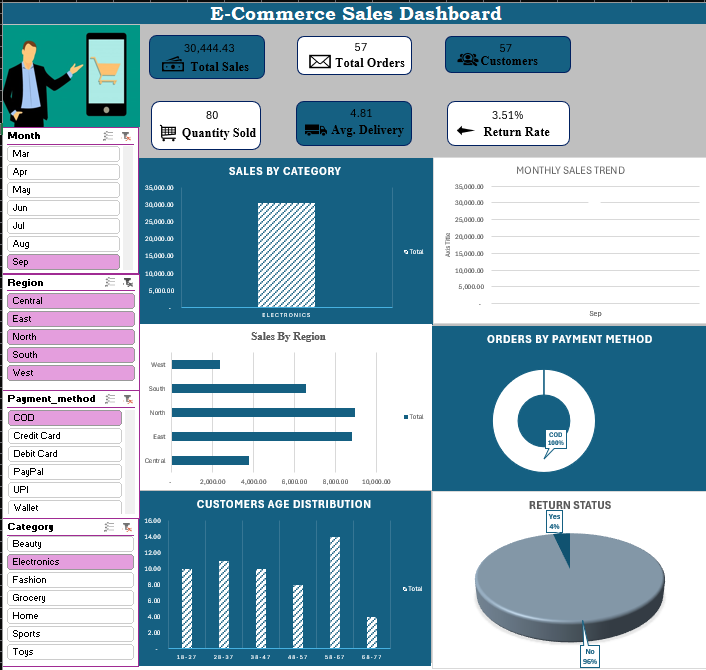

The page's visual inventory and layout, read from the dashboard file:
{"tool":"powerbi","page":{"name":"Page 1","canvas":[1280,720],"ordinal":0},"visuals":[{"type":"textbox","box":[0,0,1279.4,60.5],"z":0},{"type":"cardVisual","fields":{"Data":["CountNonNull(raw csv.Order_id)"]},"box":[277.1,60.6,252.9,125.7],"z":1000},{"type":"cardVisual","fields":{"Data":["Count(raw csv.Customer_id)"]},"box":[530,60.6,245.3,125.7],"z":2000},{"type":"cardVisual","fields":{"Data":["Avg(raw csv.Delivery_time_days)"]},"box":[1029.7,60.6,249.8,125.7],"z":3000},{"type":"cardVisual","fields":{"Data":["Sum(raw csv.Quantity)"]},"box":[775.3,60.6,254.4,125.7],"z":4000},{"type":"cardVisual","fields":{"Data":["Sum(raw csv.Total_amount)"]},"box":[0,60.6,277.1,125.7],"z":5000},{"type":"slicer","fields":{"Values":["raw csv.Order_date.Variation.Date Hierarchy.Year"]},"box":[0,186.2,346.8,118.1],"z":6000},{"type":"slicer","fields":{"Values":["raw csv.Category"]},"box":[346.8,186.2,331.6,118.1],"z":7000},{"type":"slicer","fields":{"Values":["raw csv.Region"]},"box":[678.4,186.2,302.8,118.1],"z":8000},{"type":"slicer","fields":{"Values":["raw csv.Payment_method"]},"box":[981.2,186.2,298.3,118.1],"z":9000},{"type":"clusteredBarChart","title":"Sales by Category","fields":{"Y":["Sum(raw csv.Total_amount)"],"Category":["raw csv.Category"]},"box":[1.5,304.4,457.3,212],"z":10000},{"type":"lineChart","title":"Sales by Month","fields":{"Y":["Sum(raw csv.Total_amount)"],"Category":["raw csv.Order_date.Variation.Date Hierarchy.Month"]},"box":[458.8,304.4,424,215],"z":11000},{"type":"barChart","title":"Sales by Region","fields":{"Category":["raw csv.Region"],"Y":["Sum(raw csv.Total_amount)"]},"box":[879.8,304.4,399.8,212],"z":12000},{"type":"donutChart","title":"Orders by Payment Method","fields":{"Category":["raw csv.Payment_method"],"Y":["CountNonNull(raw csv.Order_id)"]},"box":[2,516.1,456.8,203.7],"z":13000},{"type":"clusteredColumnChart","title":"Customer Age Distribution","fields":{"Category":["raw csv.Age_Group"],"Y":["CountNonNull(raw csv.Customer_id)"]},"box":[456.9,516.7,423.6,200],"z":14000},{"type":"pieChart","title":"Return Status Distribution","fields":{"Category":["raw csv.Returned"],"Y":["CountNonNull(raw csv.Order_id)"]},"box":[881.9,513.9,398.6,202.8],"z":15000}]}

Visuals, with their boxes on the page's 1280x720 design canvas (x1, y1, x2, y2). These are canvas units, not pixel positions in the 706x670 screenshot, which may show the page scaled, cropped or inside an application window:
textbox: rect(0, 0, 1279, 60)
cardVisual - CountNonNull(raw csv.Order_id): rect(277, 61, 530, 186)
cardVisual - Count(raw csv.Customer_id): rect(530, 61, 775, 186)
cardVisual - Avg(raw csv.Delivery_time_days): rect(1030, 61, 1280, 186)
cardVisual - Sum(raw csv.Quantity): rect(775, 61, 1030, 186)
cardVisual - Sum(raw csv.Total_amount): rect(0, 61, 277, 186)
slicer - raw csv.Order_date.Variation.Date Hierarchy.Year: rect(0, 186, 347, 304)
slicer - raw csv.Category: rect(347, 186, 678, 304)
slicer - raw csv.Region: rect(678, 186, 981, 304)
slicer - raw csv.Payment_method: rect(981, 186, 1280, 304)
"Sales by Category" clusteredBarChart: rect(2, 304, 459, 516)
"Sales by Month" lineChart: rect(459, 304, 883, 519)
"Sales by Region" barChart: rect(880, 304, 1280, 516)
"Orders by Payment Method" donutChart: rect(2, 516, 459, 720)
"Customer Age Distribution" clusteredColumnChart: rect(457, 517, 880, 717)
"Return Status Distribution" pieChart: rect(882, 514, 1280, 717)
